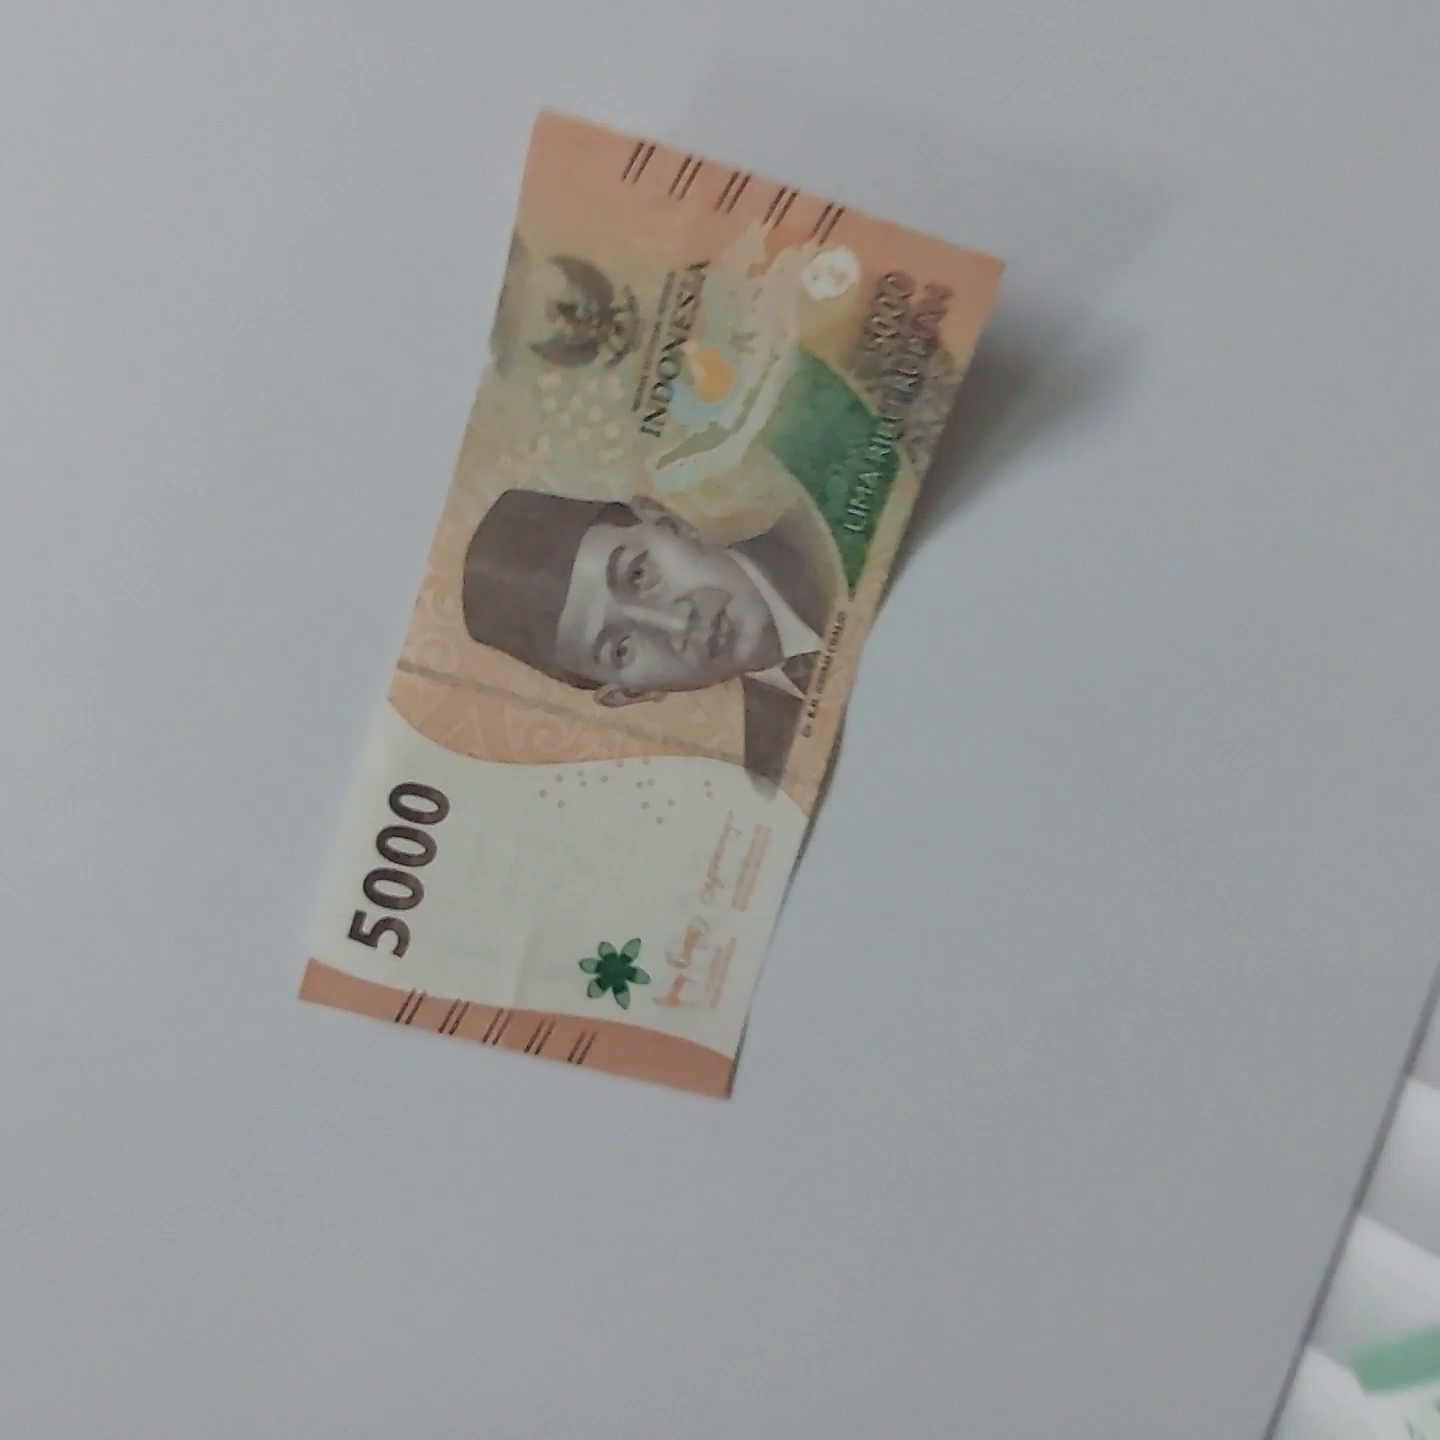5k: (566, 73, 1042, 1065)
